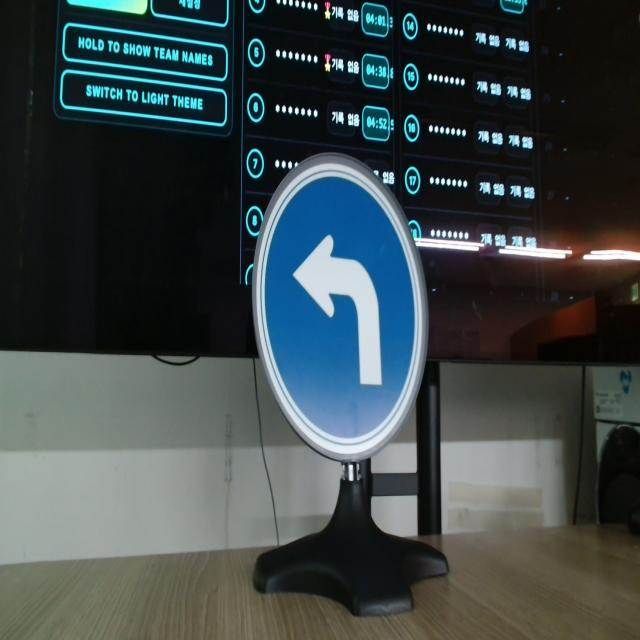left_direction: (250, 153, 429, 464)
